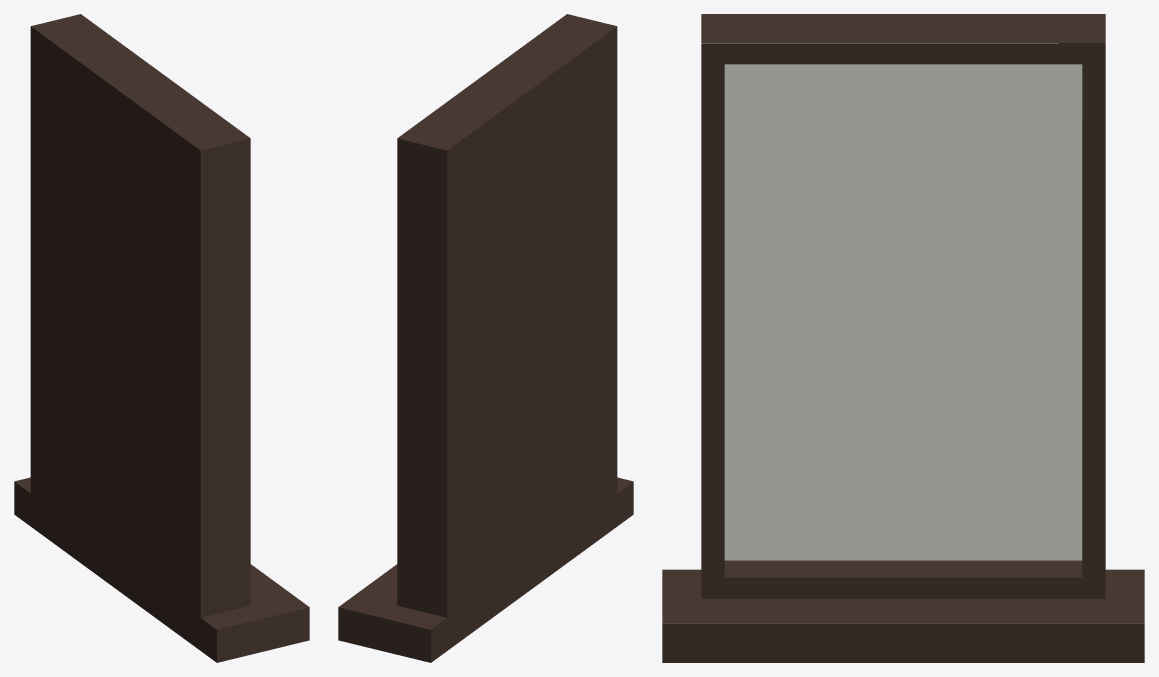
Rendered from Window1.fbx.
The picture shows the model from 3 angles, left to right: view 1: azimuth 30°, elevation 25°; view 2: azimuth 150°, elevation 25°; view 3: azimuth 270°, elevation 25°; orthographic projection. The views are drawn at different scales.
Parts seen in each view (by area): view 1: Cube; view 2: Cube; view 3: Cube.
Boxes of the visible parts, left/top/right/bottom form: Cube: left=14, top=14, right=309, bottom=662; Cube: left=338, top=14, right=633, bottom=662; Cube: left=662, top=14, right=1144, bottom=662.
Size of the model in its own units: 9.45 by 48.71 by 35.79.
Materials: 1 (1 with a texture image).
